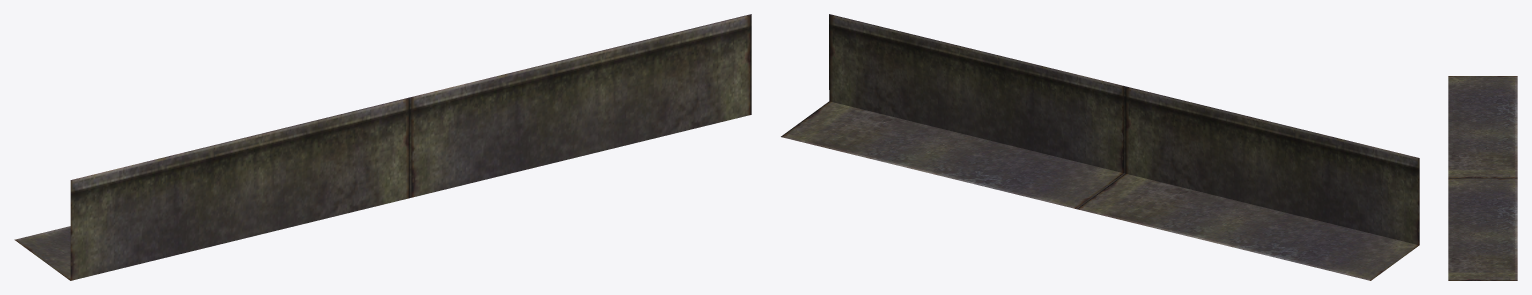
Rendered from Trottoir_11.fbx.
3 views of the same model, side by side, from view 1: azimuth 30°, elevation 25°; view 2: azimuth 150°, elevation 25°; view 3: azimuth 270°, elevation 25° (orthographic). The views are drawn at different scales.
Parts seen in each view (by area): view 1: Trottoir_11; view 2: Trottoir_11; view 3: Trottoir_11.
Part boxes in pixels (x1=…): Trottoir_11: x1=14, y1=14, x2=751, y2=280; Trottoir_11: x1=781, y1=14, x2=1419, y2=280; Trottoir_11: x1=1448, y1=76, x2=1517, y2=280.
Size of the model in its own units: 700 by 98.96 by 100.
